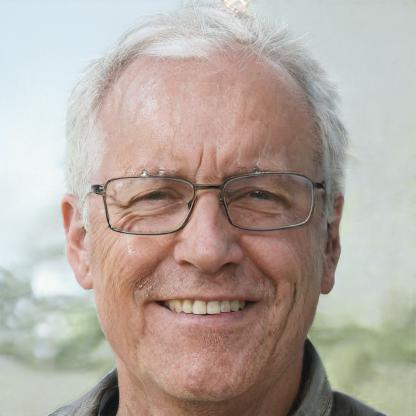glasses: (93, 168, 323, 239)
